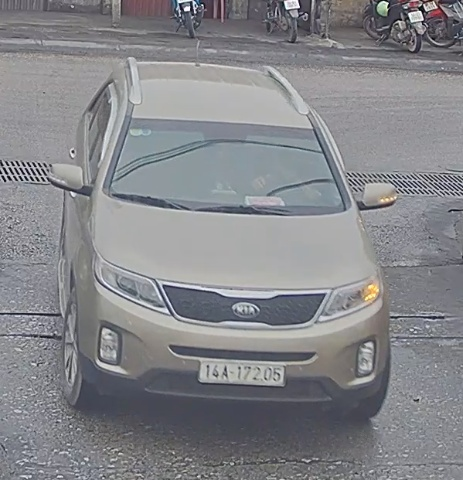vehicle plate: (189, 358, 294, 394)
